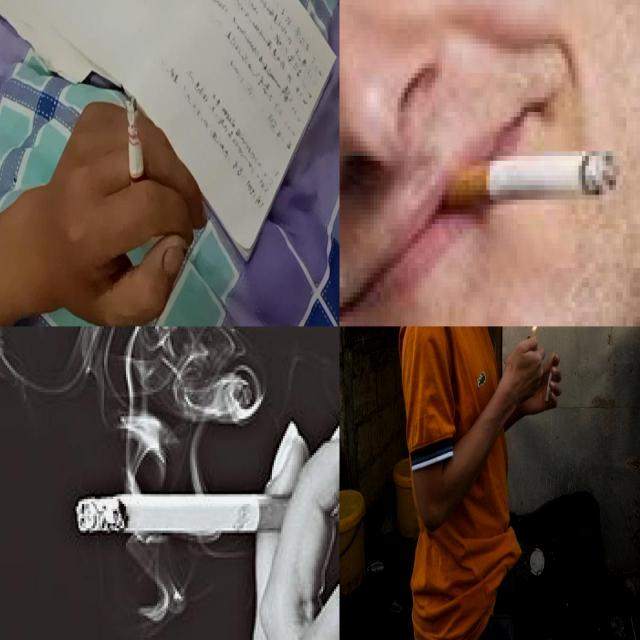smoke: (438, 146, 622, 212), (75, 494, 332, 532), (124, 96, 146, 202)
